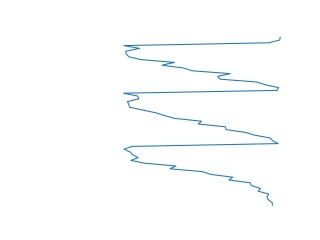distributaryMouthBar: (121, 38, 284, 207)
